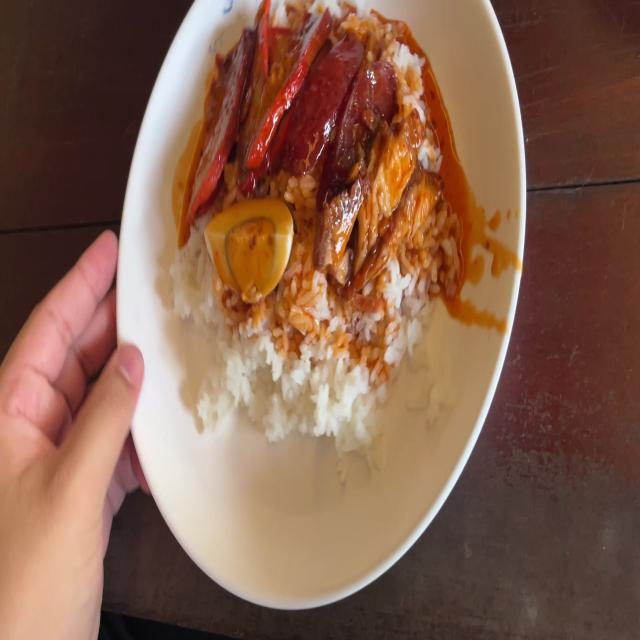01boiled_egg: (203, 199, 297, 302)
01chainese_sausage: (295, 44, 387, 176)
01crispy_pork: (344, 128, 440, 274)
01red_pork: (186, 14, 317, 193)
01red_pork_and_crispy_pork: (176, 7, 447, 439)
01rice: (201, 311, 401, 427), (314, 275, 432, 354)
